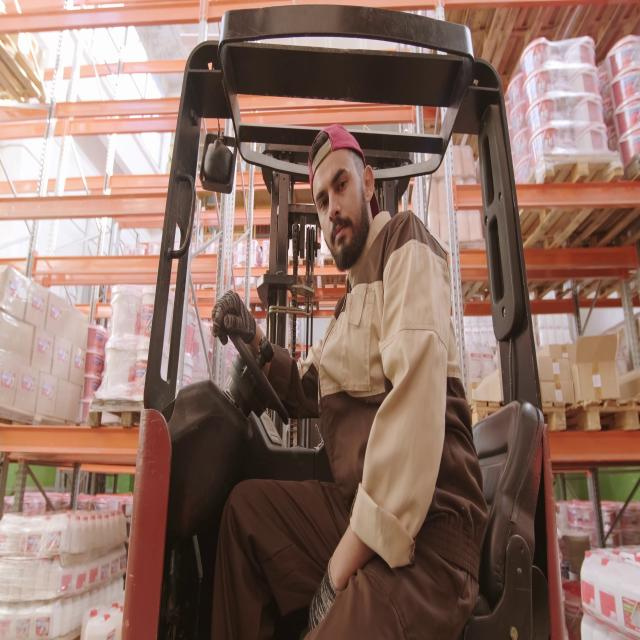gloved: (212, 289, 256, 346), (307, 557, 340, 632)
